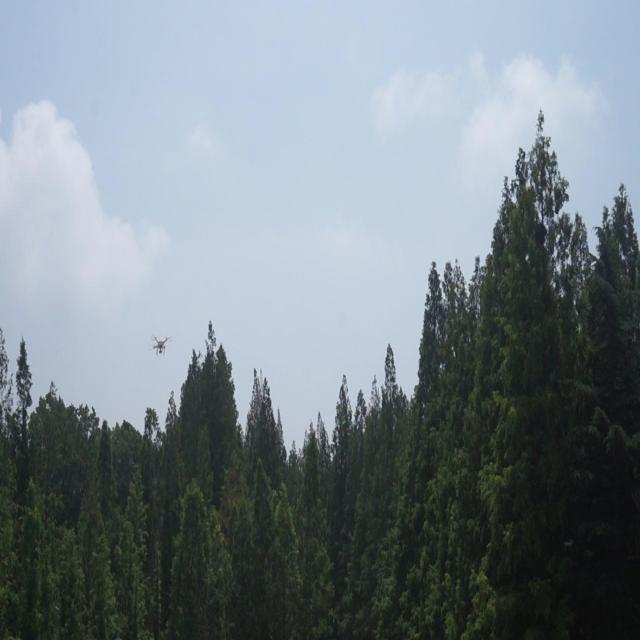drone: (148, 329, 177, 361)
